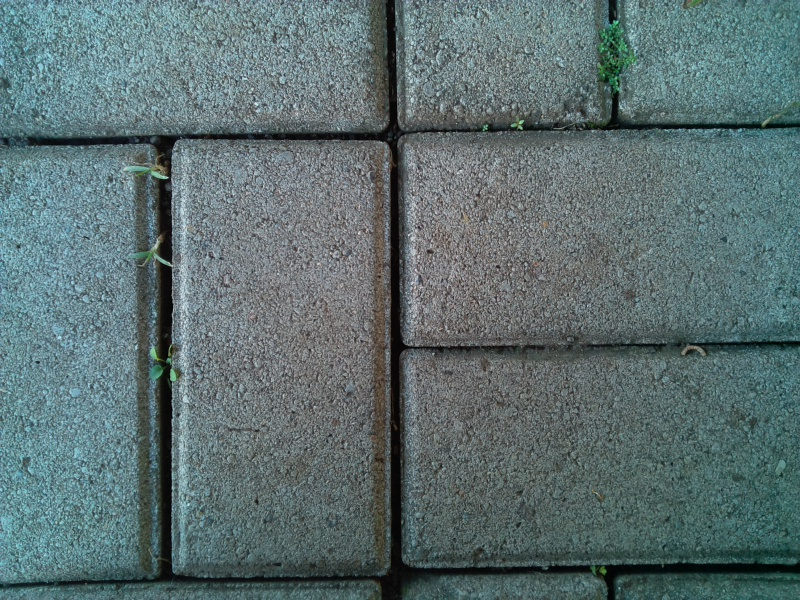Weed: (591, 15, 640, 99), (141, 341, 195, 390), (127, 232, 183, 275), (122, 151, 177, 189), (580, 558, 615, 587), (504, 113, 529, 140), (474, 116, 497, 141)
